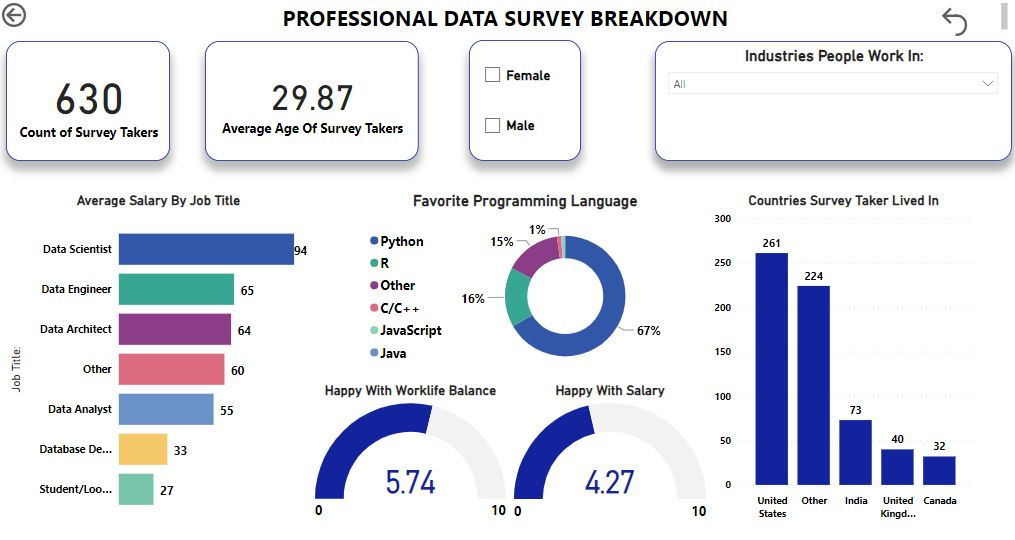

The page's visual inventory and layout, read from the dashboard file:
{"tool":"powerbi","page":{"name":"Page 1","canvas":[1280,720],"ordinal":0},"visuals":[{"type":"textbox","box":[10.1,0,1256.5,52],"z":0},{"type":"card","fields":{"Values":["Count(Data Professional Survey.Unique ID)"]},"box":[9.6,52.2,204.9,149.9],"z":1000},{"type":"card","fields":{"Values":["Avg(Data Professional Survey.Q10 - Current Age)"]},"box":[258.5,52.2,266.7,149.9],"z":2000},{"type":"barChart","title":"Average Salary By Job Title","fields":{"Category":["Data Professional Survey.Q1 - Which Title Best Fits your Current Role?.1"],"Y":["Avg(Data Professional Survey.Average Salary)"],"Series":["Data Professional Survey.Q1 - Which Title Best Fits your Current Role?.1"]},"box":[10,241.4,381.4,417.1],"z":3000},{"type":"donutChart","title":"Favorite Programming Language","fields":{"Category":["Data Professional Survey.Q5 - Favorite Programming Language.1"],"Y":["Count(Data Professional Survey.Unique ID)"]},"box":[458.2,240.9,400.6,238.3],"z":4000},{"type":"columnChart","title":"Countries Survey Taker Lived In","fields":{"Y":["Count(Data Professional Survey.Unique ID)"],"Category":["Data Professional Survey.Q11 - Which Country do you live in?.1"]},"box":[890,241.4,334.3,417.1],"z":5000},{"type":"gauge","title":"Happy With Worklife  Balance","fields":{"Y":["Avg(Data Professional Survey.Q6 - How Happy are you in your Current Position with the following? (Work/Life Balance))"],"MinValue":["Min(Data Professional Survey.Q6 - How Happy are you in your Current Position with the following? (Work/Life Balance))1"],"MaxValue":["Max(Data Professional Survey.Q6 - How Happy are you in your Current Position with the following? (Work/Life Balance))2"]},"box":[391.4,478.6,248.6,184.3],"z":6000},{"type":"gauge","title":"Happy With Salary","fields":{"Y":["Avg(Data Professional Survey.Q6 - How Happy are you in your Current Position with the following? (Salary))"],"MinValue":["Min(Data Professional Survey.Q6 - How Happy are you in your Current Position with the following? (Salary))1"],"MaxValue":["Max(Data Professional Survey.Q6 - How Happy are you in your Current Position with the following? (Salary))2"]},"box":[640,478.6,250,184.3],"z":7000},{"type":"actionButton","box":[0,0,100,40],"z":9000},{"type":"actionButton","box":[1172.8,5.5,50.9,46.7],"z":10000},{"type":"slicer","title":"Industries People Work In:","fields":{"Values":["Data Professional Survey.Q4 - What Industry do you work in?.1"]},"box":[821.4,52.9,445.7,150],"z":11000},{"type":"slicer","fields":{"Values":["Data Professional Survey.Q9 - Male/Female?"]},"box":[588.6,51.4,140,151.4],"z":11001}]}

Visuals, with their boxes on the page's 1280x720 design canvas (x1, y1, x2, y2). These are canvas units, not pixel positions in the 1015x540 screenshot, which may show the page scaled, cropped or inside an application window:
textbox: 10, 0, 1267, 52
card - Count(Data Professional Survey.Unique ID): 10, 52, 214, 202
card - Avg(Data Professional Survey.Q10 - Current Age): 258, 52, 525, 202
"Average Salary By Job Title" barChart: 10, 241, 391, 658
"Favorite Programming Language" donutChart: 458, 241, 859, 479
"Countries Survey Taker Lived In" columnChart: 890, 241, 1224, 658
"Happy With Worklife  Balance" gauge: 391, 479, 640, 663
"Happy With Salary" gauge: 640, 479, 890, 663
actionButton: 0, 0, 100, 40
actionButton: 1173, 6, 1224, 52
"Industries People Work In:" slicer: 821, 53, 1267, 203
slicer - Data Professional Survey.Q9 - Male/Female?: 589, 51, 729, 203
